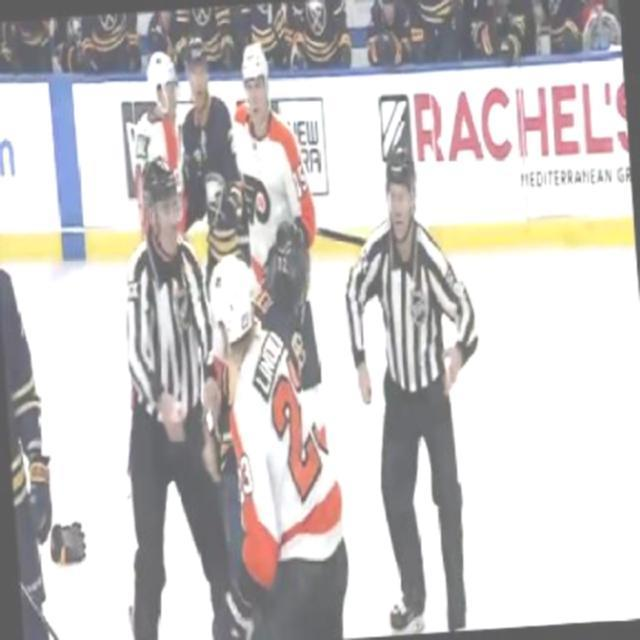fight: (104, 150, 356, 638)
non-fight: (334, 142, 502, 636)
